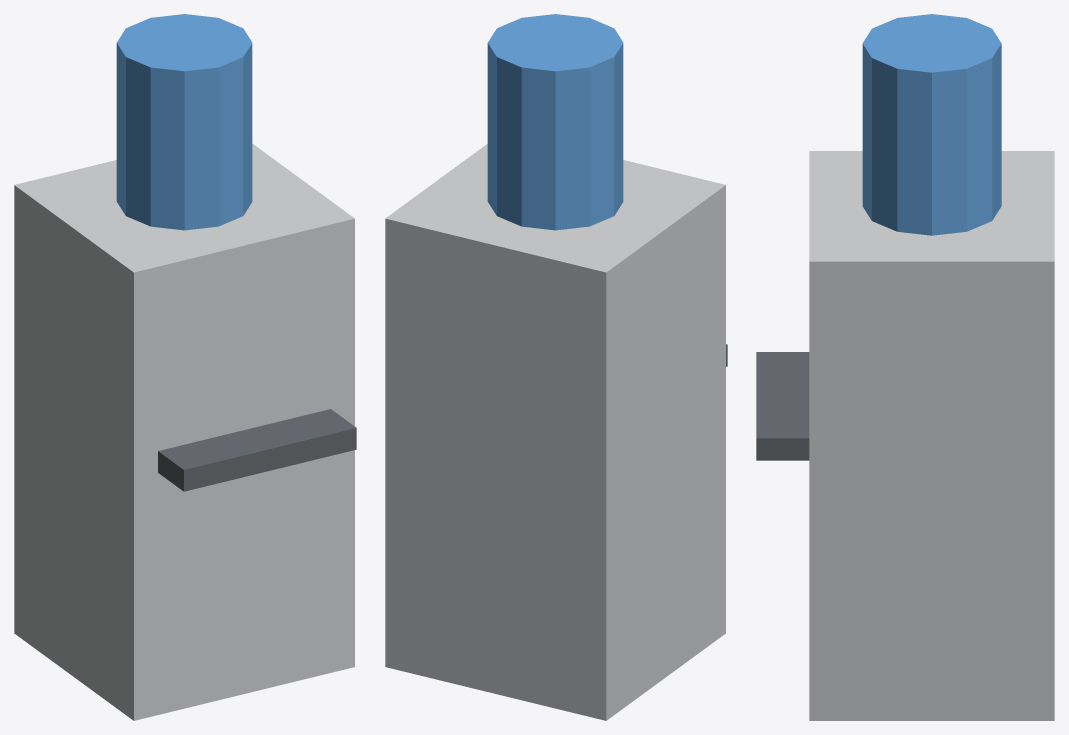
The model's file is Prop_WaterCooler.glb.
The picture shows the model from 3 angles, left to right: view 1: azimuth 30°, elevation 25°; view 2: azimuth 150°, elevation 25°; view 3: azimuth 270°, elevation 25°; orthographic projection. The views are drawn at different scales.
Visible parts, largest first — view 1: Body, Jug, Tray; view 2: Body, Jug; view 3: Body, Jug, Tray.
Boxes of the visible parts, box(x1,y1,x2,y2) form: Body: box(14, 143, 354, 720); Jug: box(116, 14, 252, 230); Tray: box(158, 409, 356, 491); Body: box(385, 144, 725, 720); Jug: box(487, 14, 623, 230); Body: box(809, 151, 1054, 720); Jug: box(862, 14, 1001, 235); Tray: box(756, 352, 809, 460).
Size of the model in its own units: 0.64 by 1.68 by 0.73.
